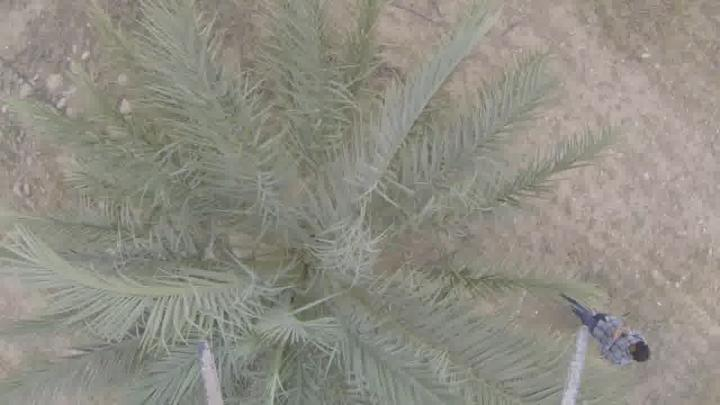Date-Palm-Crown: (130, 85, 461, 405)
